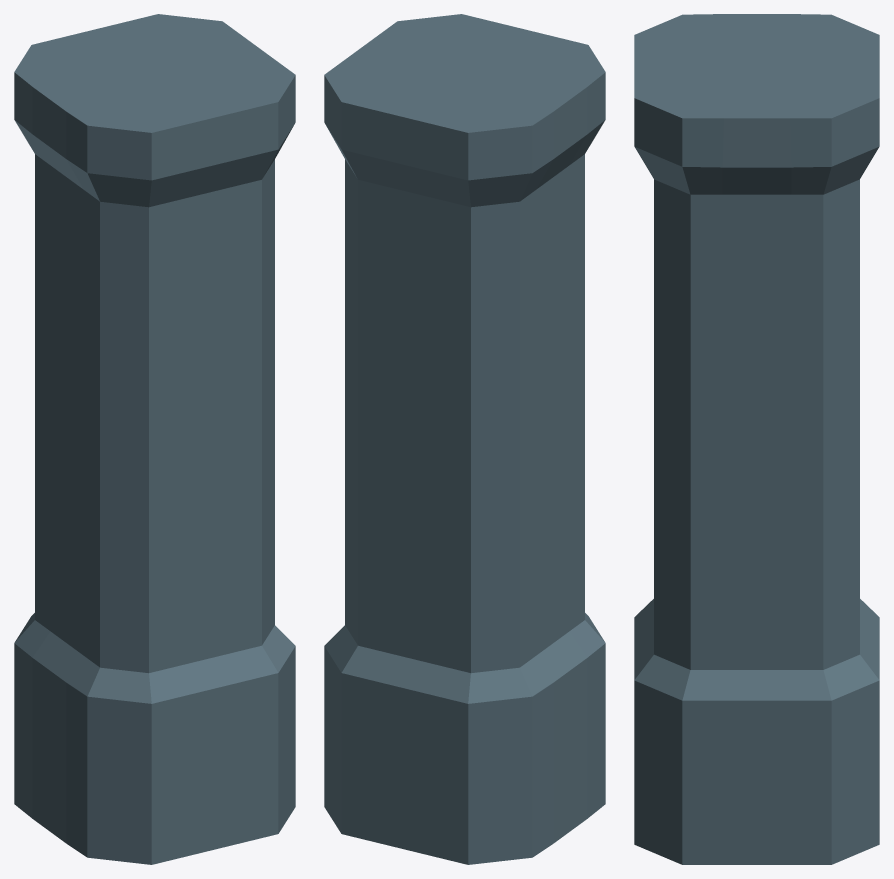
The model's file is Dungeon_Pillar.fbx.
3 views of the same model, side by side, from view 1: azimuth 30°, elevation 25°; view 2: azimuth 150°, elevation 25°; view 3: azimuth 270°, elevation 25° (orthographic).
Parts seen in each view (by area): view 1: Wall.000; view 2: Wall.000; view 3: Wall.000.
Part boxes in pixels (bbox=[...]): Wall.000: bbox=[14, 14, 295, 864]; Wall.000: bbox=[324, 14, 605, 864]; Wall.000: bbox=[634, 14, 879, 864].
Size of the model in its own units: 1.21 by 4 by 1.19.
